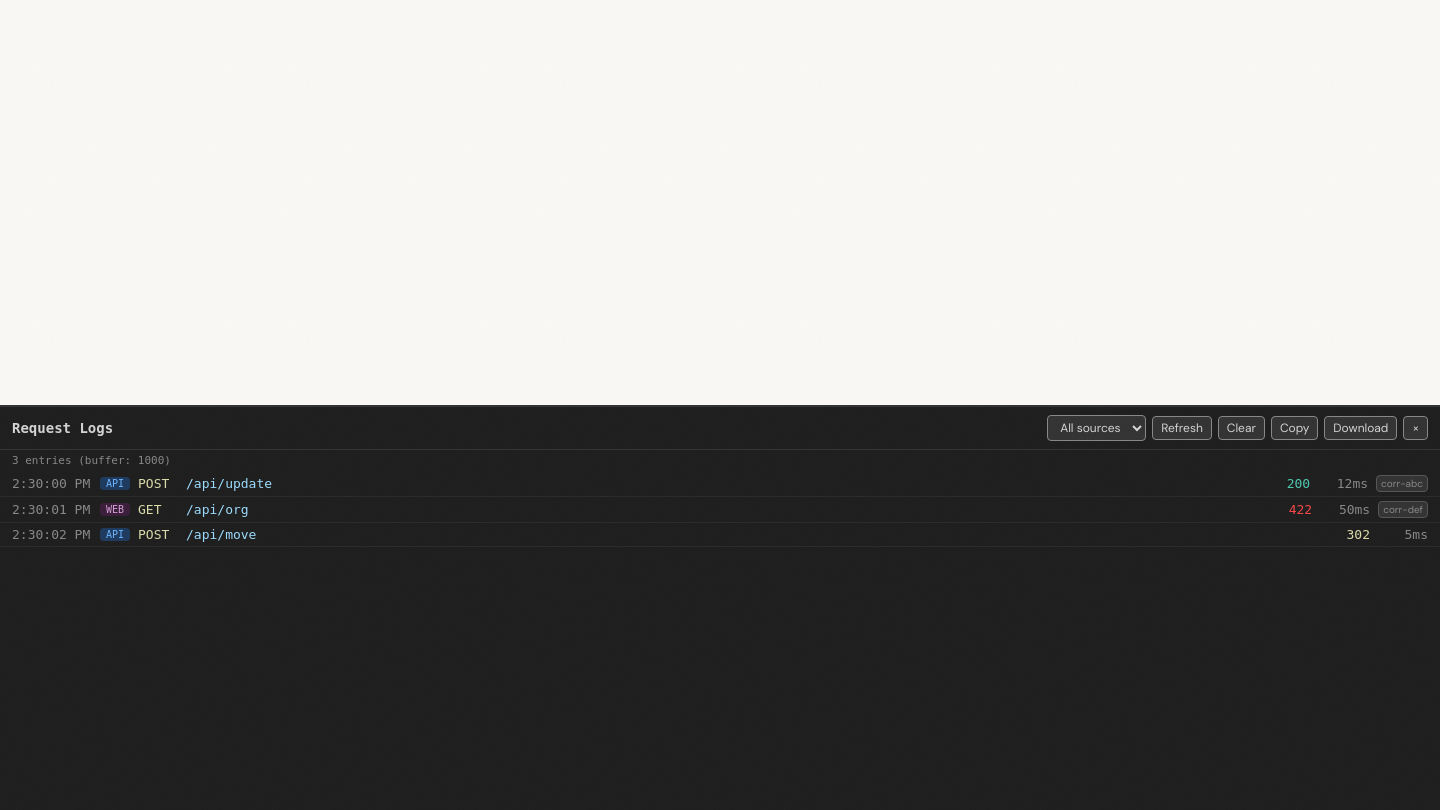
Test: LogPanel — branch coverage › collapses expanded entry on second click
Click the button "/api/update".
click(51, 484)  # box [0,471,1439,496]
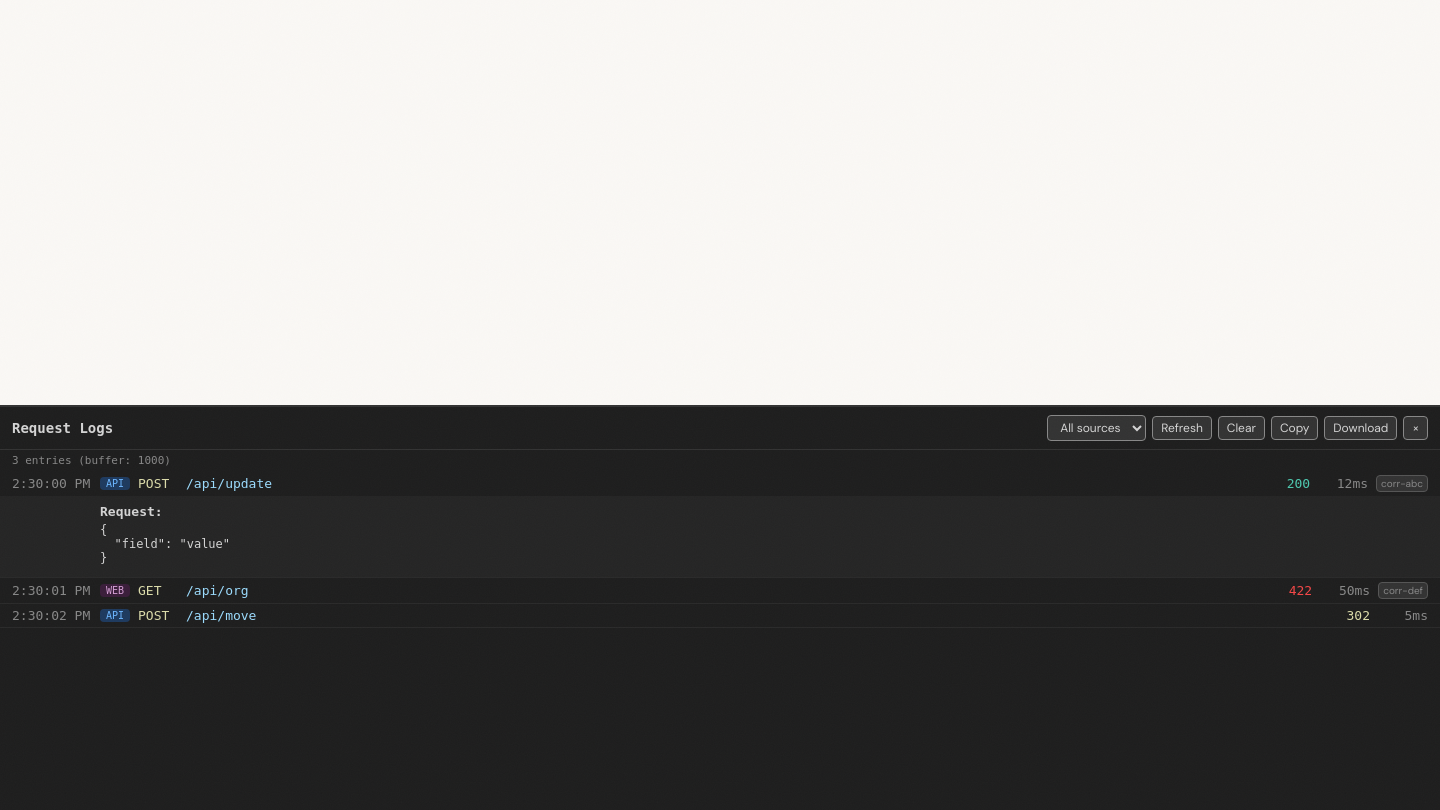
Expected: the text "Request:" is shown, [100,504,163,519]
Click the button "/api/update".
click(51, 484)  # box [0,471,1439,496]
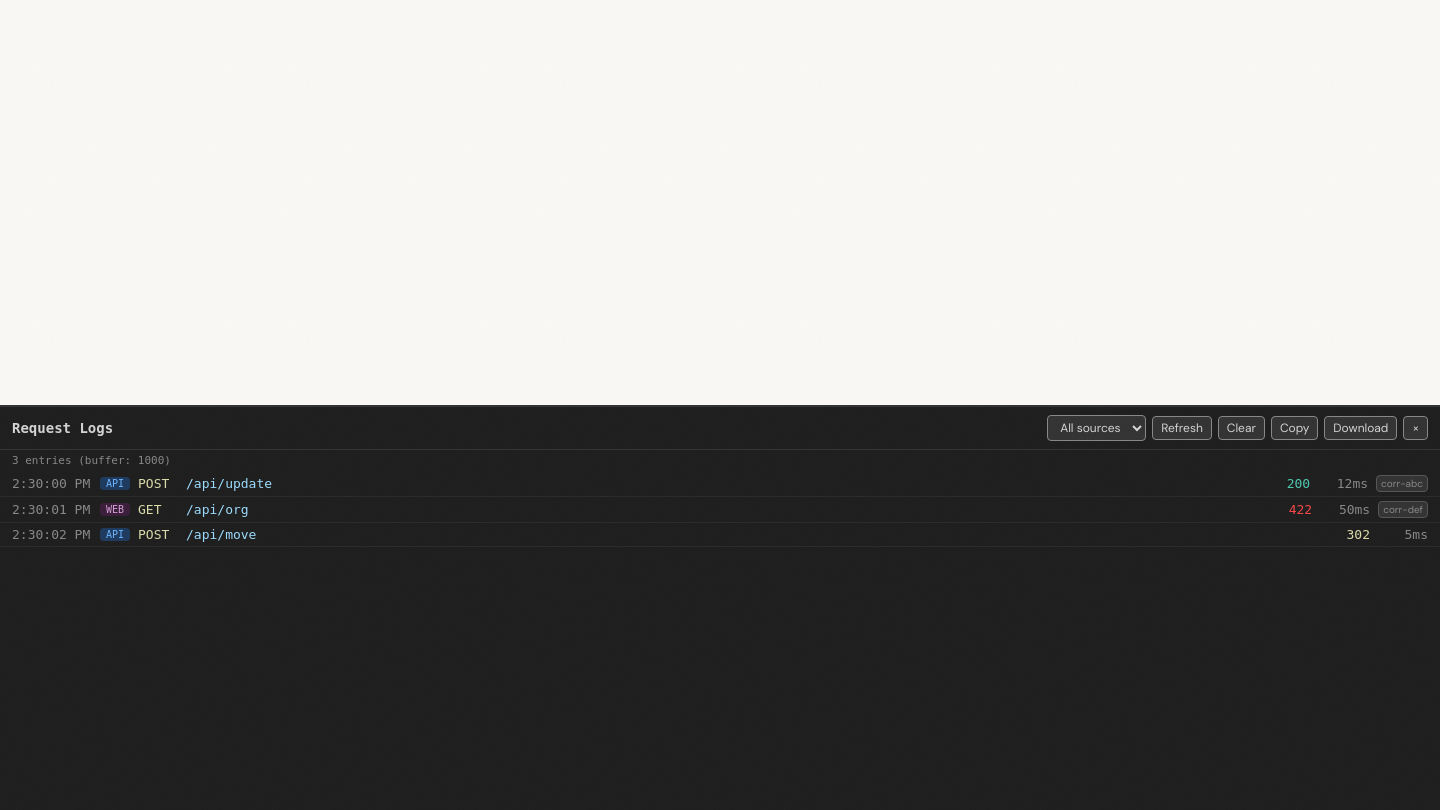
Expected: the text "Request:" is gone
